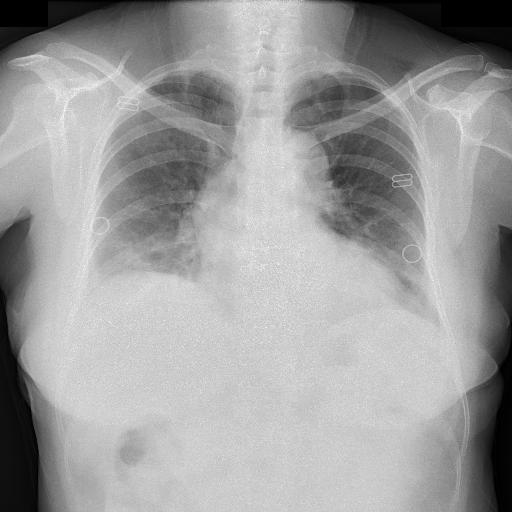Aortic enlargement: (154, 80, 272, 178)
Cardiomegaly: (94, 224, 298, 280)
